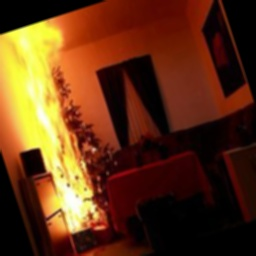fire: (0, 16, 128, 252)
